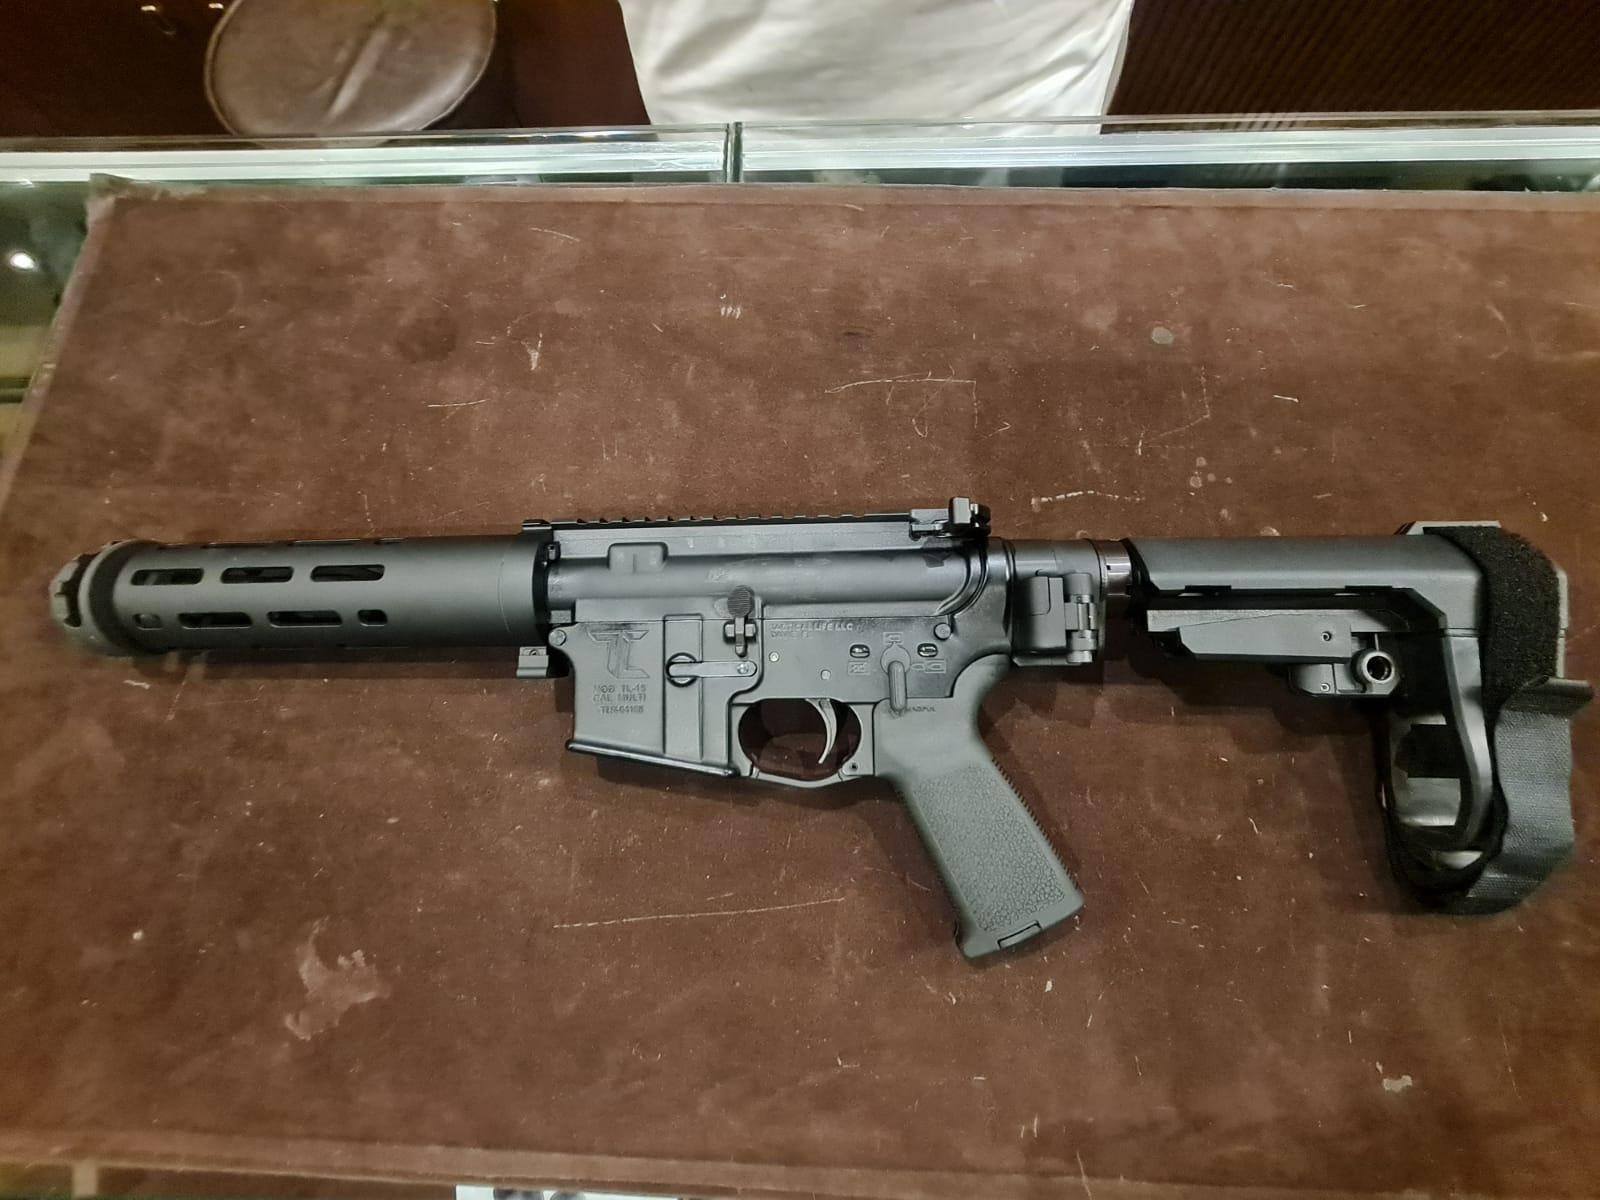weapon: (53, 495, 1591, 962)
